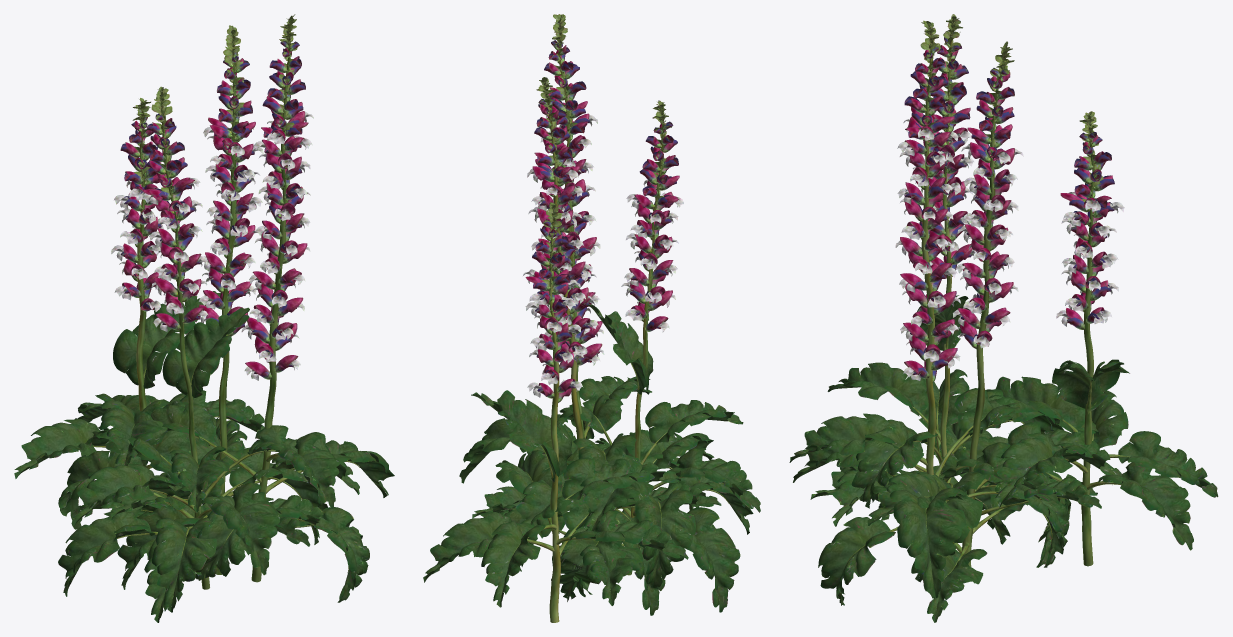
Rendered from Acanthus Spinosus 3.glb.
The picture shows the model from 3 angles, left to right: view 1: azimuth 30°, elevation 25°; view 2: azimuth 150°, elevation 25°; view 3: azimuth 270°, elevation 25°; orthographic projection. The views are drawn at different scales.
Parts seen in each view (by area): view 1: AM275_001_Mesh.002; view 2: AM275_001_Mesh.002; view 3: AM275_001_Mesh.002.
Part boxes in pixels (left/top/right/bottom): AM275_001_Mesh.002: left=14, top=14, right=394, bottom=622; AM275_001_Mesh.002: left=423, top=14, right=760, bottom=622; AM275_001_Mesh.002: left=789, top=14, right=1218, bottom=622.
Bounding box in the file's own units: 1.06 × 1.85 × 1.22.
1 material, 1 textured.
